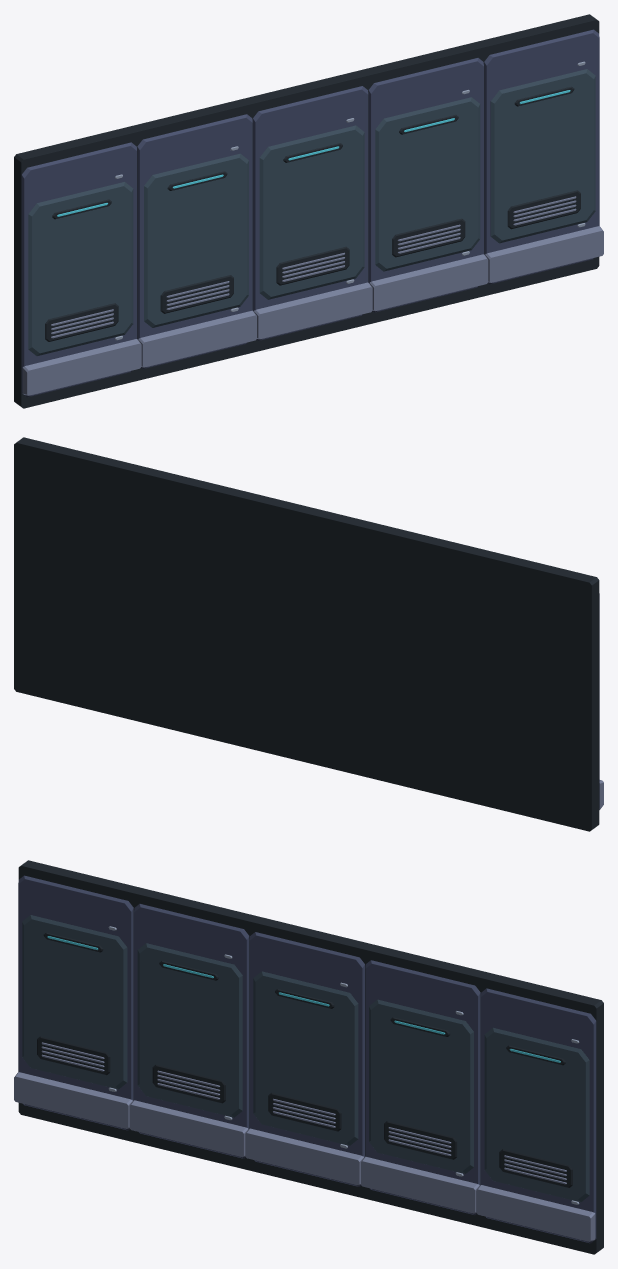
File: operations_bulkhead.glb
3 renders of one model, top to bottom at view 1: azimuth 30°, elevation 25°; view 2: azimuth 150°, elevation 25°; view 3: azimuth 330°, elevation 25°, orthographic.
Parts seen in each view (by area): view 1: Chassis, LightGuides; view 2: Chassis; view 3: Chassis, LightGuides.
Boxes of the visible parts, bbox=[...] form: Chassis: bbox=[14, 14, 603, 408]; LightGuides: bbox=[57, 90, 570, 216]; Chassis: bbox=[14, 437, 603, 831]; Chassis: bbox=[14, 860, 603, 1254]; LightGuides: bbox=[47, 936, 560, 1062].
Size of the model in its own units: 15 by 6.18 by 0.57.
